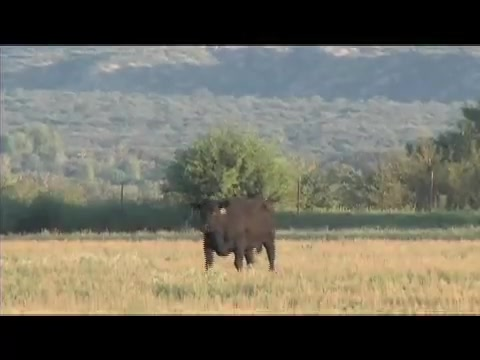cow: (190, 198, 280, 272)
